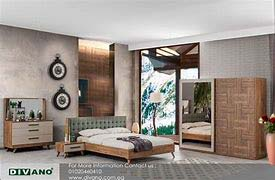copymove: (46, 53, 67, 80)
removal: (83, 86, 116, 111)
spliced: (258, 114, 275, 166)
